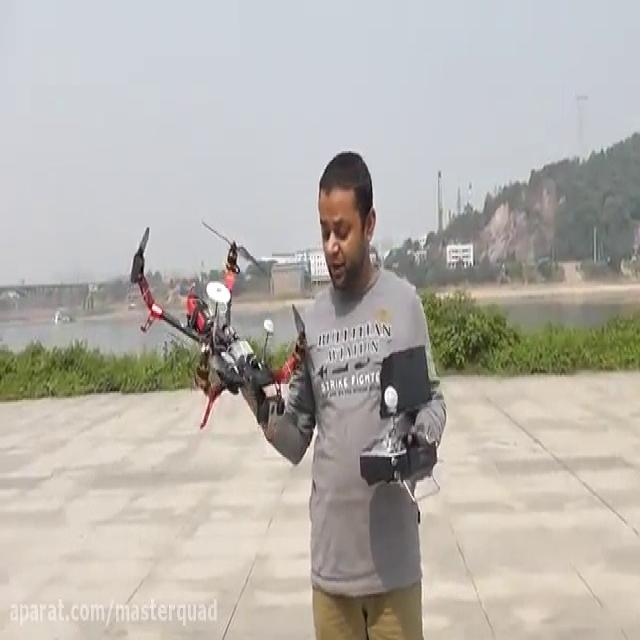drone: (128, 217, 315, 435)
